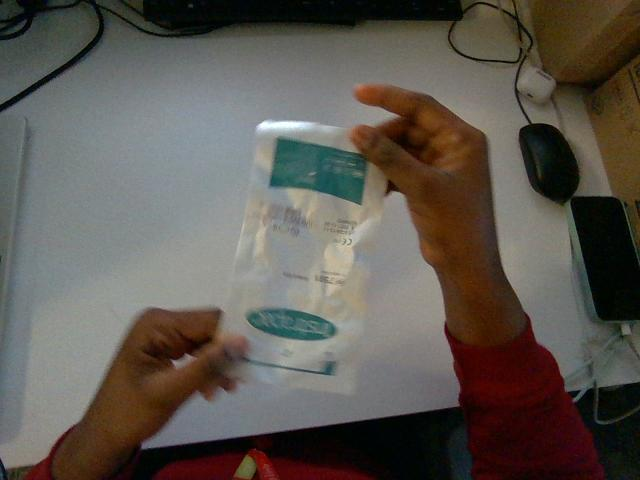gallipot: (226, 121, 386, 393)
